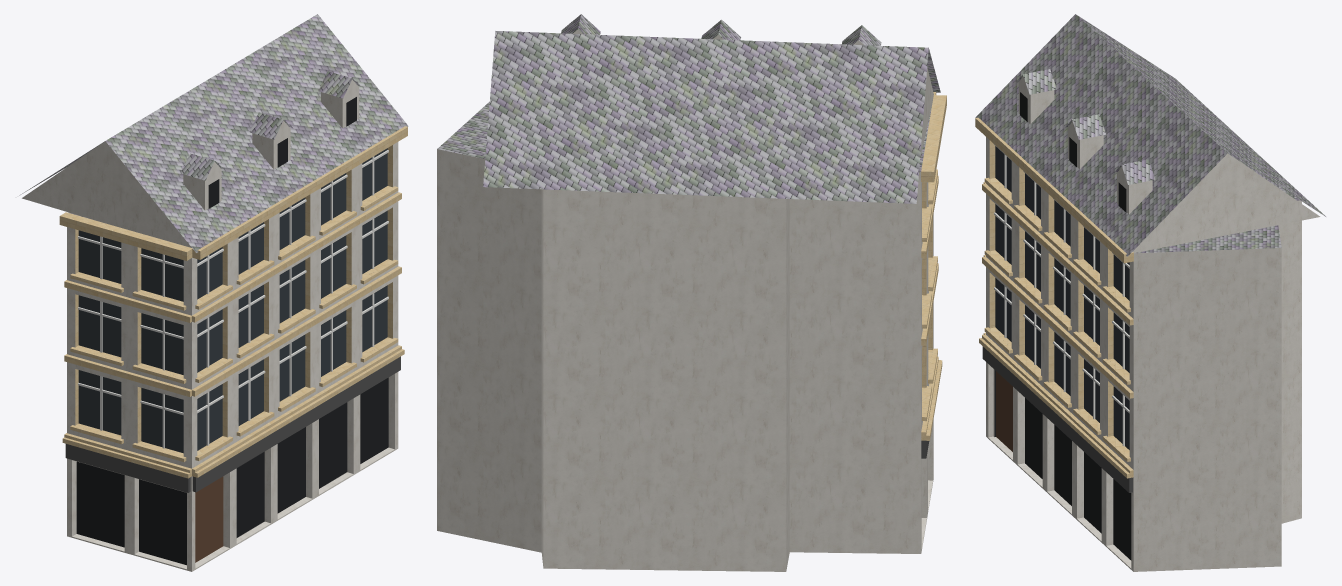
The picture shows the model from 3 angles, left to right: view 1: azimuth 30°, elevation 25°; view 2: azimuth 150°, elevation 25°; view 3: azimuth 270°, elevation 25°; orthographic projection. The views are drawn at different scales.
Visible parts, largest first — view 1: bldg_496944386_landmark; view 2: bldg_496944386_landmark; view 3: bldg_496944386_landmark.
Part boxes in pixels (box(x1,y1,x2,y2)): bldg_496944386_landmark: box(19, 14, 408, 571); bldg_496944386_landmark: box(437, 14, 946, 571); bldg_496944386_landmark: box(975, 14, 1325, 571).
Bounding box in the file's own units: 16.21 × 17.06 × 13.53.
Materials: 8 (3 with a texture image).
